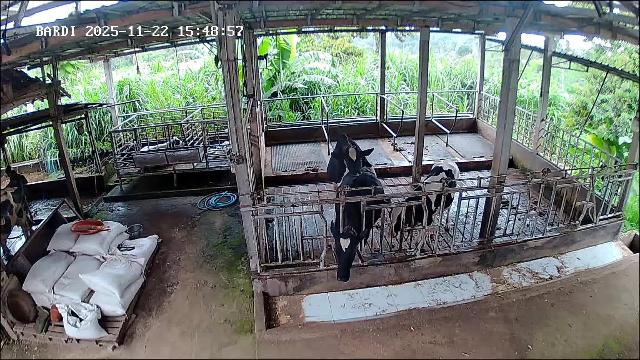mounting: (326, 131, 377, 192)
